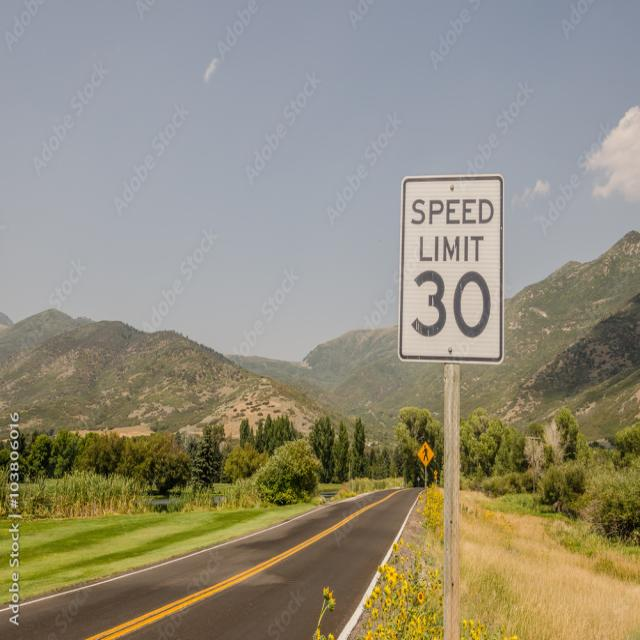speedLimit30: (401, 174, 502, 362)
